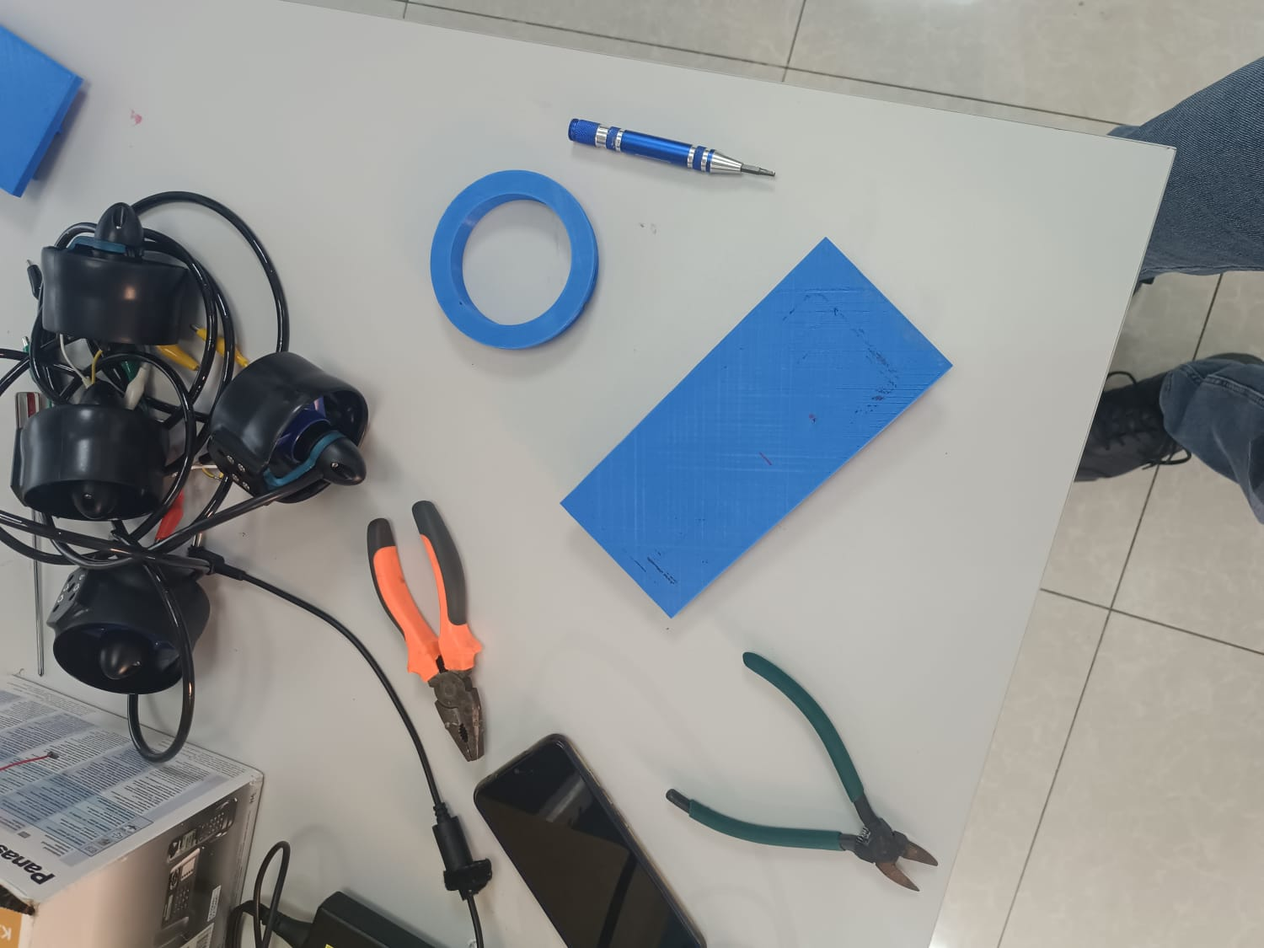Circle: (422, 158, 606, 358)
